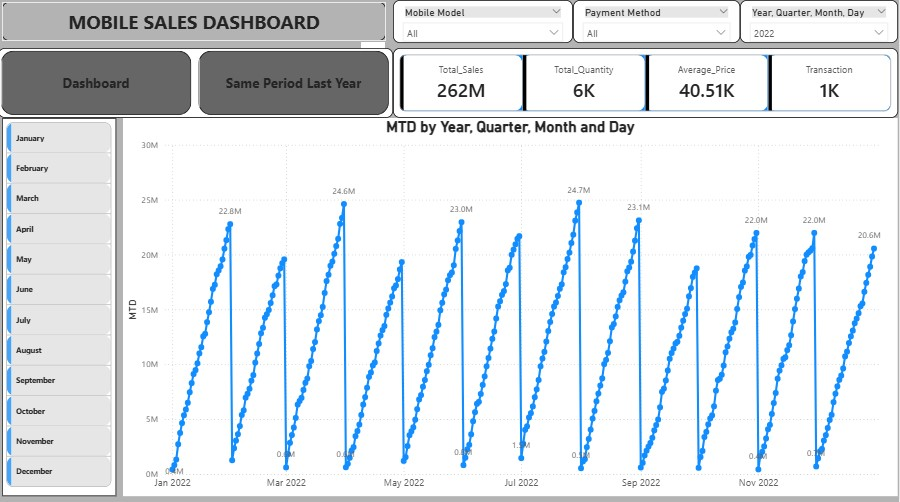

Layout of this report page (visuals, bound fields, positions):
{"tool":"powerbi","page":{"name":"MTD Report","canvas":[1280,720],"ordinal":1},"visuals":[{"type":"textbox","box":[9.9,9.9,544.3,55.3],"z":0},{"type":"cardVisual","fields":{"Data":["Sales_Data.Total_Sales","Sales_Data.Total_Quantity","Sales_Data.Average_Price","Sales_Data.Transaction"]},"box":[564.1,75.1,715.7,99.2],"z":1000},{"type":"slicer","fields":{"Values":["Sales_Data.Mobile Model"]},"box":[564.1,7.1,255.1,60.9],"z":2000},{"type":"slicer","fields":{"Values":["Sales_Data.Payment Method"]},"box":[819.2,7.1,236.7,60.9],"z":3000},{"type":"slicer","fields":{"Values":["Custom_Calendar.Date.Variation.Date Hierarchy.Year","Custom_Calendar.Date.Variation.Date Hierarchy.Quarter","Custom_Calendar.Date.Variation.Date Hierarchy.Month","Custom_Calendar.Date.Variation.Date Hierarchy.Day"]},"box":[1055.9,7.1,223.9,60.9],"z":4000},{"type":"lineChart","fields":{"Y":["Sales_Data.MTD"],"Category":["Custom_Calendar.Date.Variation.Date Hierarchy.Year","Custom_Calendar.Date.Variation.Date Hierarchy.Quarter","Custom_Calendar.Date.Variation.Date Hierarchy.Month","Custom_Calendar.Date.Variation.Date Hierarchy.Day"]},"box":[181.4,174.3,1098.4,535.7],"z":5000},{"type":"advancedSlicerVisual","fields":{"Values":["Custom_Calendar.Date.Variation.Date Hierarchy.Month"]},"box":[9.9,174.3,161.6,535.7],"z":6000},{"type":"pageNavigator","box":[4.3,75.1,559.8,99.2],"z":7000}]}

Visuals, with their boxes in screenshot pixels (x1, y1, x2, y2), scaled from the page's 1280x720 canvas onto the 900x502 screenshot:
textbox: 7/7/390/45
cardVisual - Sales_Data.Total_Sales x Sales_Data.Total_Quantity: 397/52/899/122
slicer - Sales_Data.Mobile Model: 397/5/576/47
slicer - Sales_Data.Payment Method: 576/5/742/47
slicer - Custom_Calendar.Date.Variation.Date Hierarchy.Year x Custom_Calendar.Date.Variation.Date Hierarchy.Quarter: 742/5/899/47
lineChart - Sales_Data.MTD x Custom_Calendar.Date.Variation.Date Hierarchy.Year: 128/122/899/495
advancedSlicerVisual - Custom_Calendar.Date.Variation.Date Hierarchy.Month: 7/122/121/495
pageNavigator: 3/52/397/122
